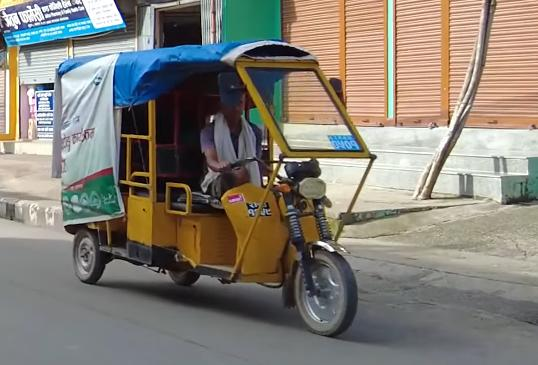e-rickshaw: (48, 36, 378, 332)
